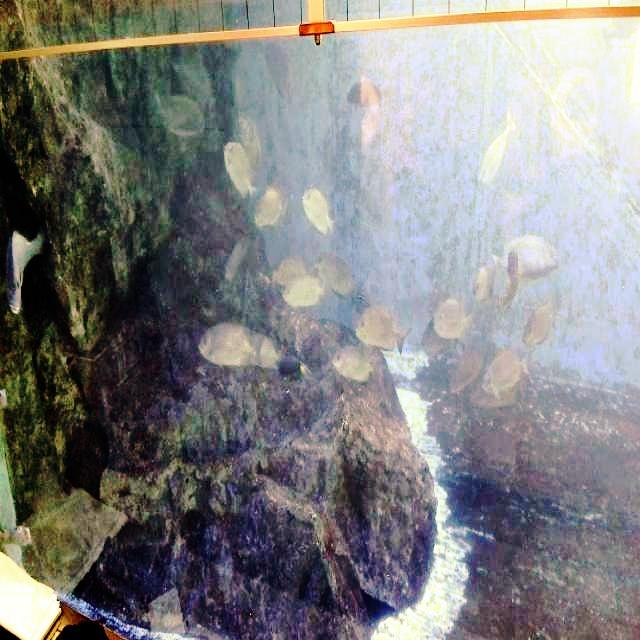gold snapper: (197, 301, 283, 392), (350, 296, 418, 361), (488, 226, 561, 286), (478, 346, 536, 404), (218, 132, 260, 210), (296, 178, 342, 249), (517, 292, 568, 354), (429, 292, 479, 352), (328, 340, 374, 400), (276, 268, 330, 318), (252, 176, 290, 237)
